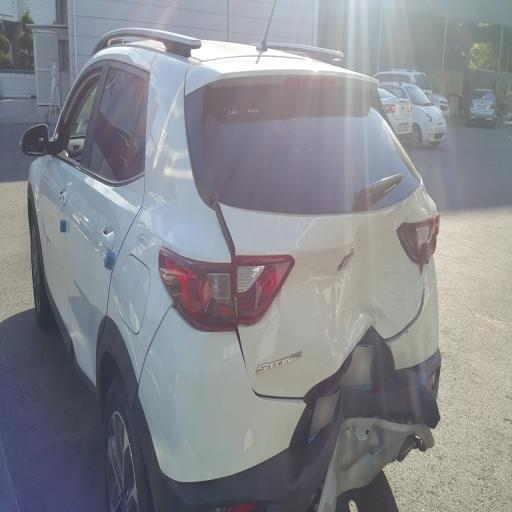broken: (270, 345, 452, 473)
dent: (202, 157, 410, 322)
scratch: (96, 244, 177, 413)
